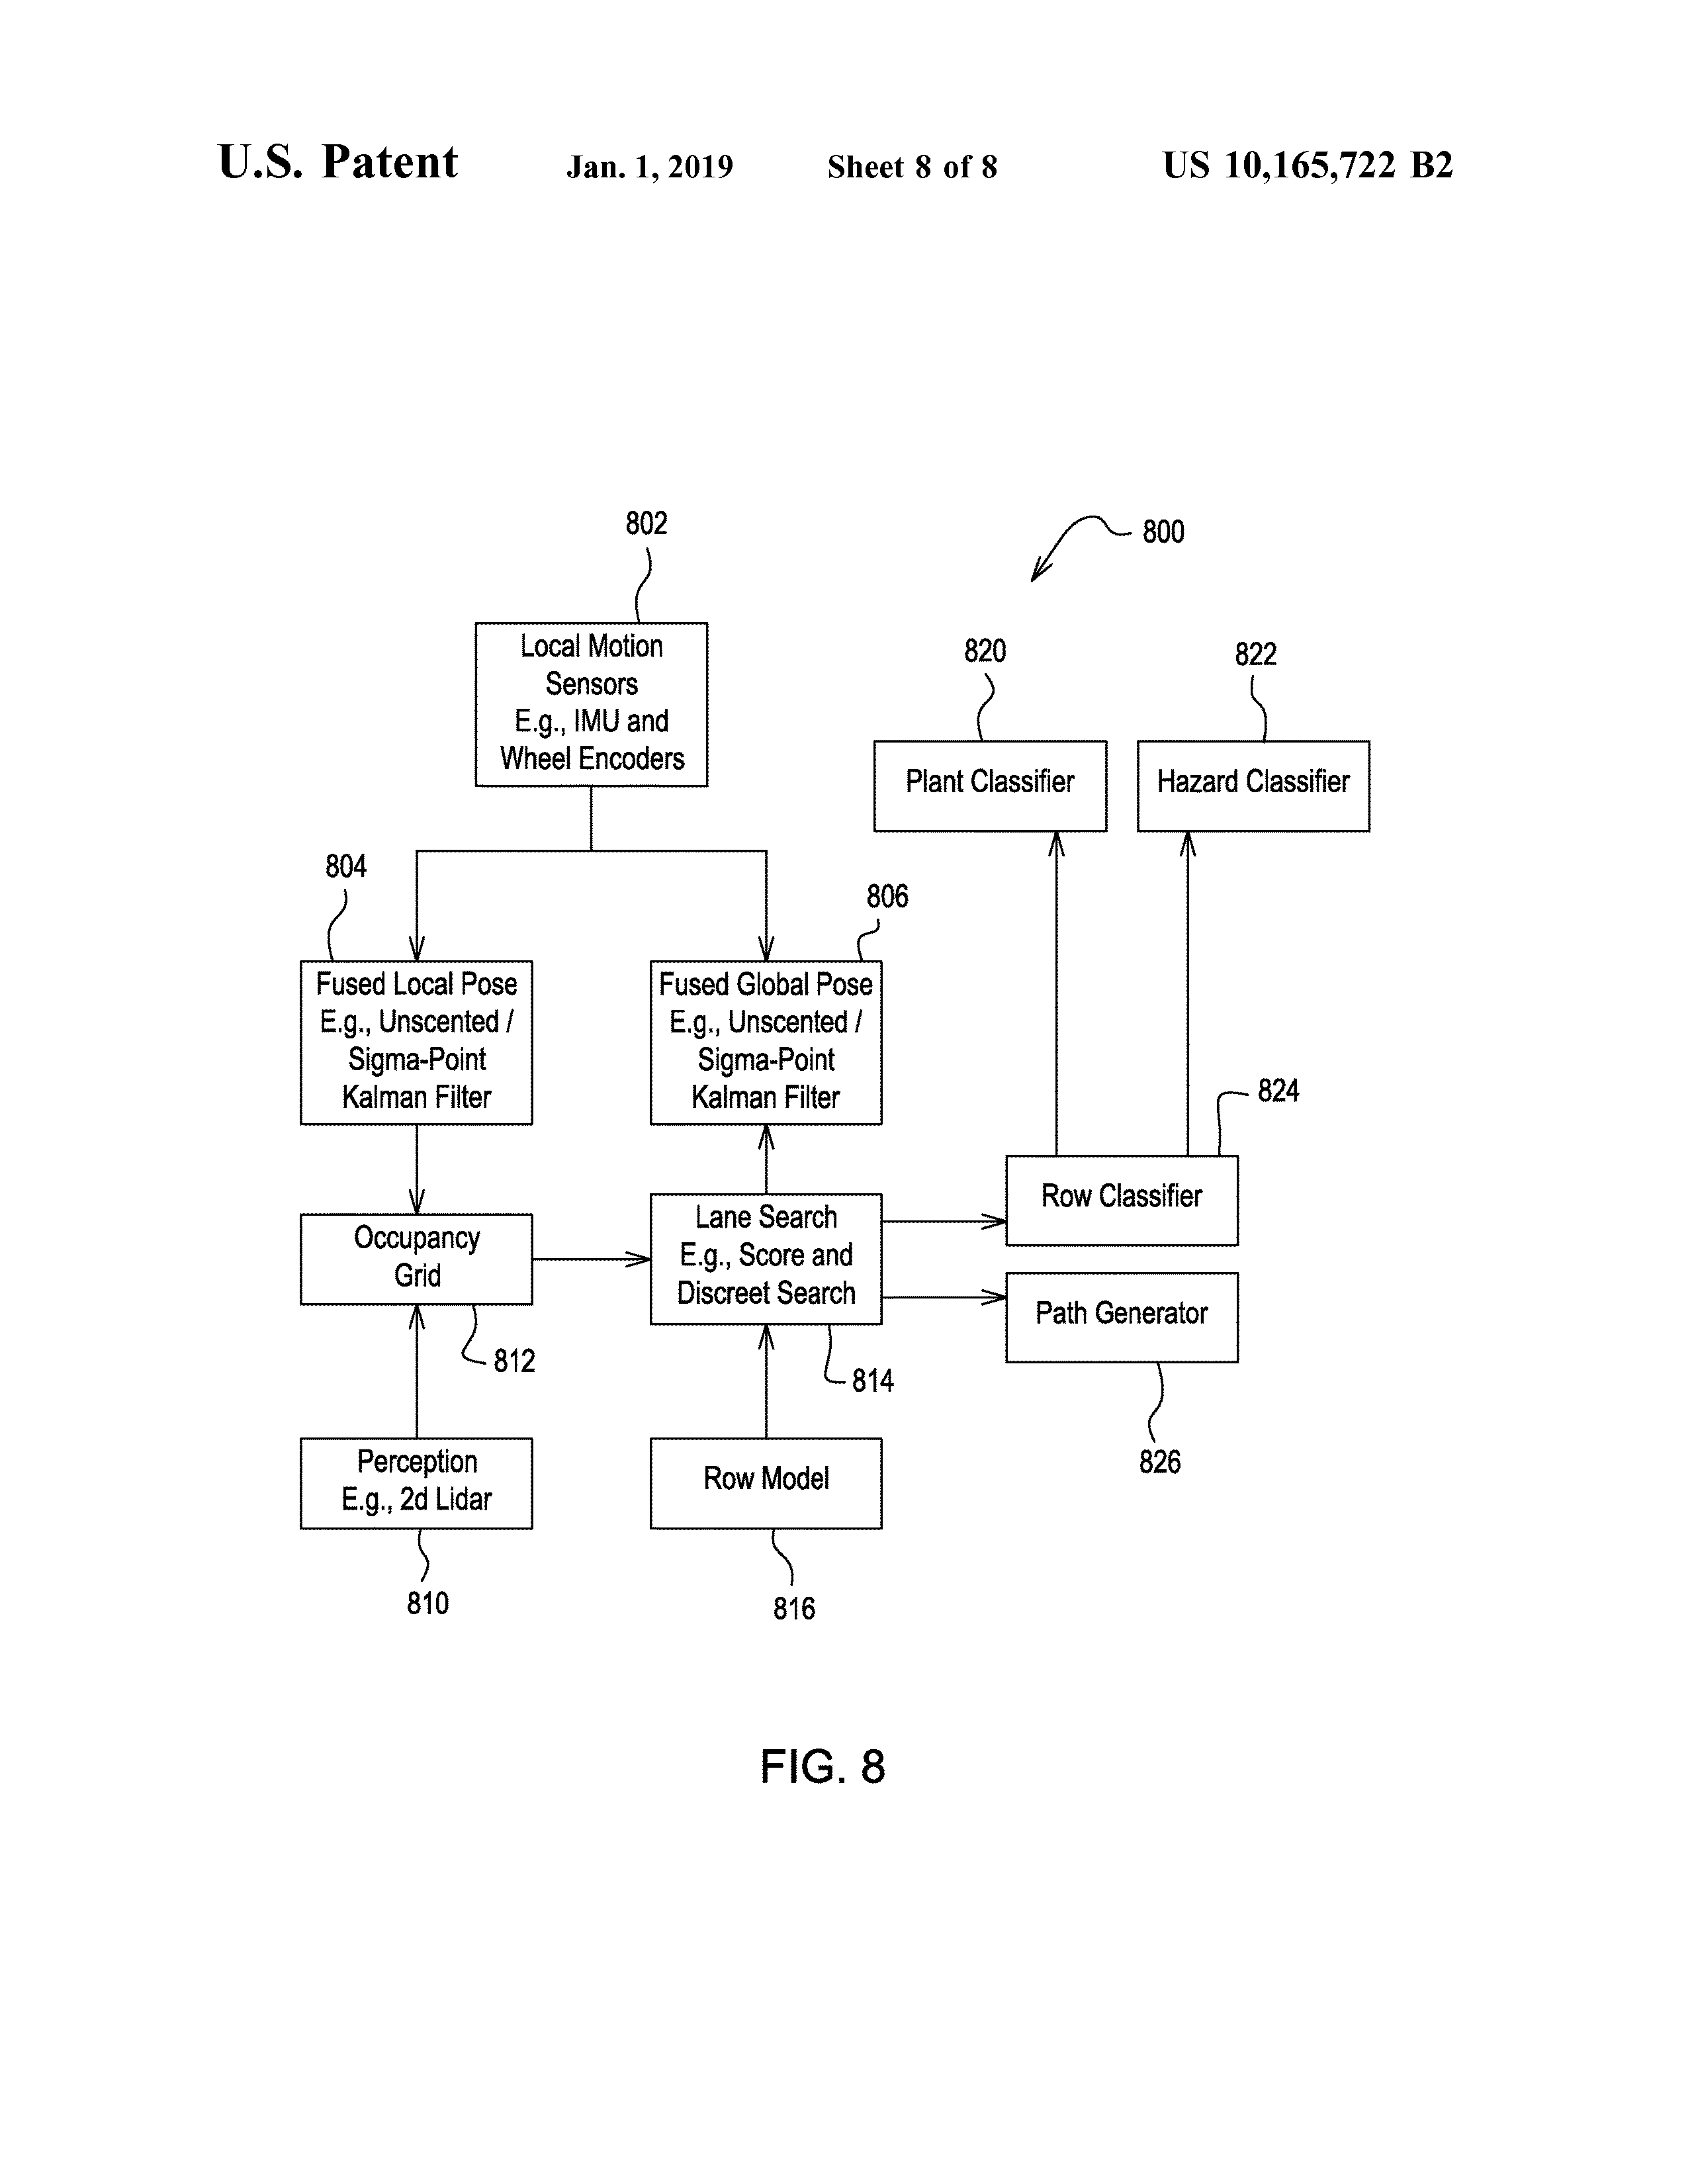patent image: (236, 451, 1415, 1896)
